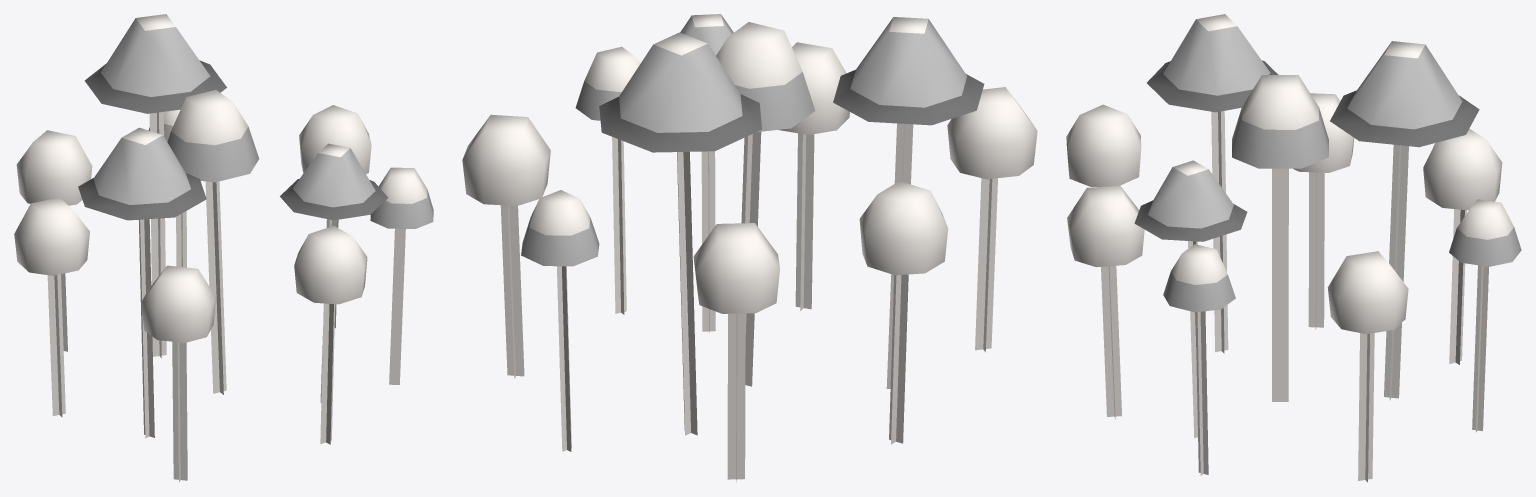
Rendered from White_Mushrooms_Cluster_3.glb.
3 views of the same model, side by side, from view 1: azimuth 30°, elevation 25°; view 2: azimuth 150°, elevation 25°; view 3: azimuth 270°, elevation 25° (orthographic). The views are drawn at different scales.
Parts seen in each view (by area): view 1: White_Mushrooms_Cluster_3; view 2: White_Mushrooms_Cluster_3; view 3: White_Mushrooms_Cluster_3.
Boxes of the visible parts, left/top/right/bottom form: White_Mushrooms_Cluster_3: left=14, top=14, right=433, bottom=482; White_Mushrooms_Cluster_3: left=462, top=14, right=1037, bottom=481; White_Mushrooms_Cluster_3: left=1066, top=14, right=1521, bottom=482.
Bounding box in the file's own units: 0.2448 × 0.2068 × 0.2443.
Materials: 1 (1 with a texture image).
